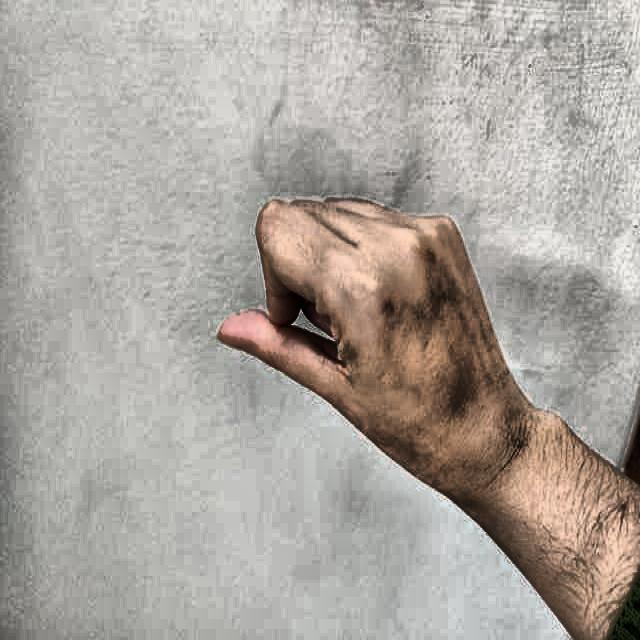Ay: (189, 166, 518, 575)
